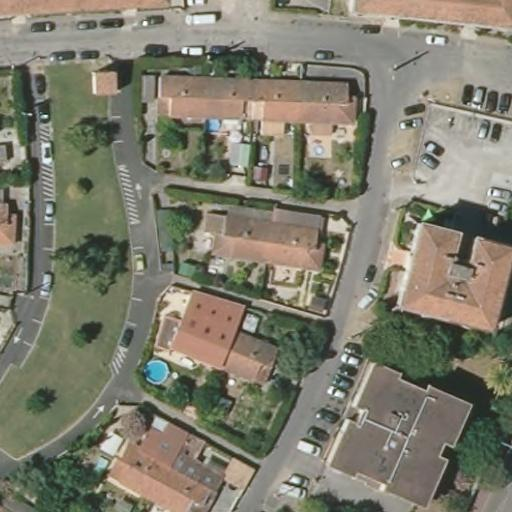pool: (142, 358, 171, 386), (205, 113, 224, 134), (308, 140, 326, 154)
